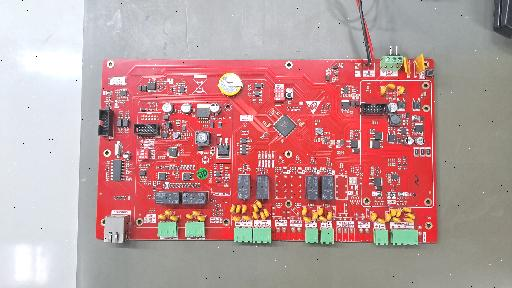var: (413, 54, 425, 75), (403, 56, 411, 75), (380, 85, 387, 96), (397, 86, 405, 95), (252, 203, 259, 212), (390, 208, 397, 217), (404, 217, 414, 223), (185, 214, 195, 220), (158, 214, 168, 220), (405, 213, 415, 219), (402, 207, 412, 213), (241, 204, 247, 214), (263, 209, 270, 217), (387, 83, 396, 89), (303, 217, 312, 223), (312, 211, 318, 220), (371, 212, 377, 221), (385, 213, 391, 222), (260, 211, 266, 220), (318, 207, 324, 216), (327, 211, 333, 220), (392, 217, 401, 223), (256, 200, 262, 209), (197, 215, 206, 221), (170, 215, 179, 221), (252, 211, 258, 219), (233, 216, 241, 222), (395, 209, 401, 217), (230, 205, 236, 213), (164, 210, 172, 216), (243, 216, 252, 221), (377, 218, 386, 223), (302, 207, 307, 216), (318, 216, 327, 221), (236, 205, 241, 213), (192, 211, 200, 216)
